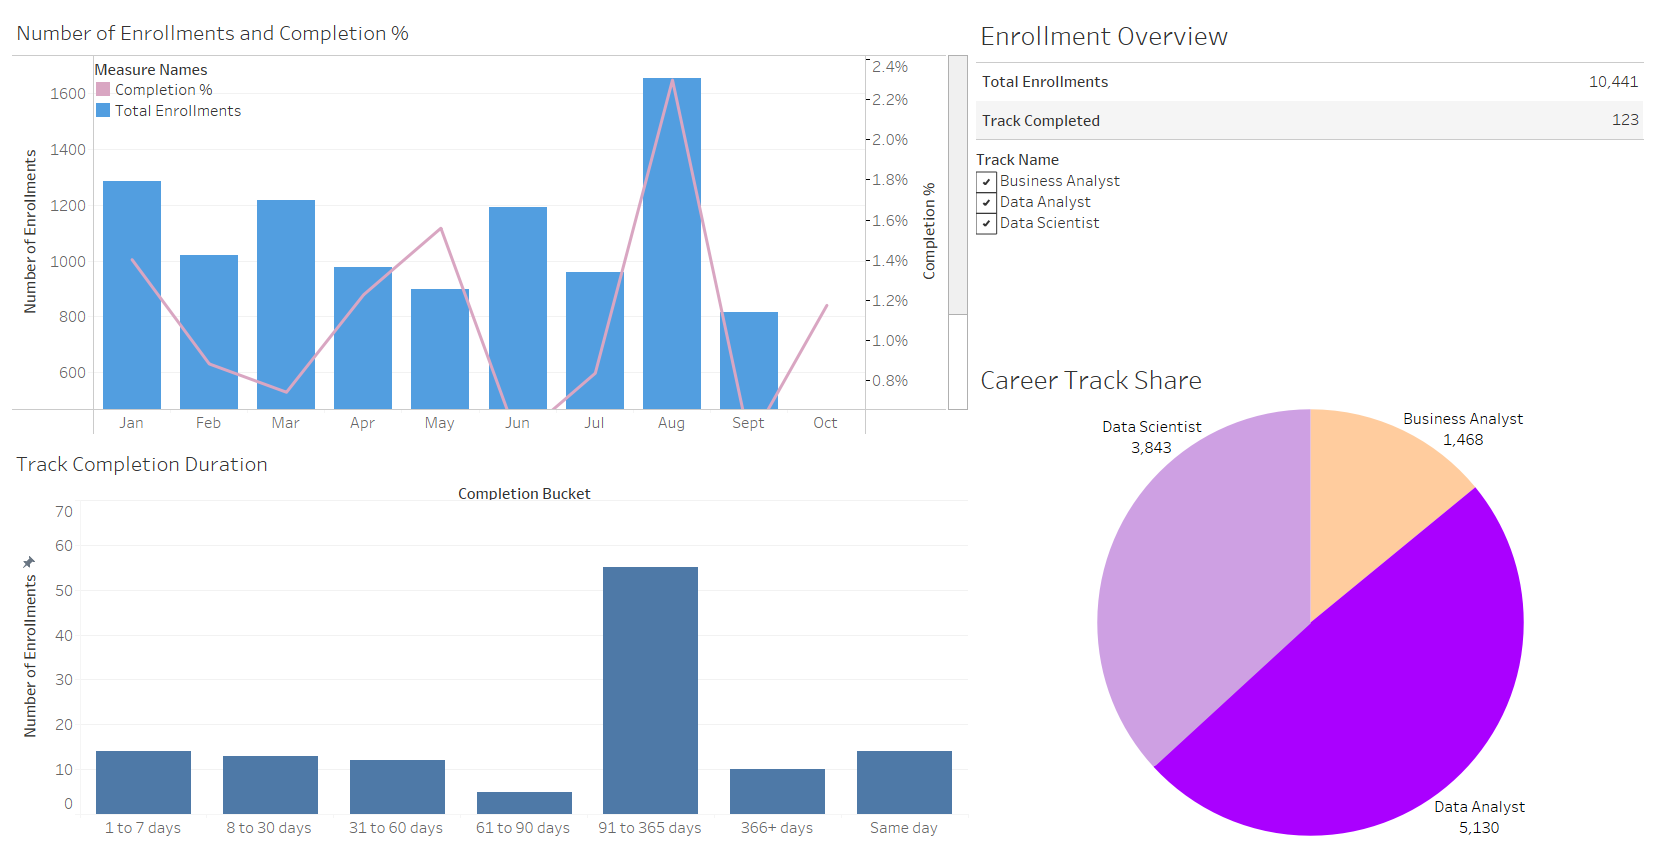

Layout of this report page (visuals, bound fields, positions):
{"tool":"tableau","page":{"name":"Dashboard 1","canvas":[1000,1000],"units":"permille","ordinal":0},"visuals":[{"type":"worksheet","title":"Sheet 1","mark":"Bar","rows":["student_track_id","Calculation_249105413131046913"],"cols":["date_enrolled"],"box":[4.8,9.4,581.8,506.5]},{"type":"worksheet","title":"Sheet 4","mark":"Automatic","box":[586.6,9.4,408.6,159.9]},{"type":"legend","title":"Sheet 1","param":"[federated.0kg2e6g110j3jy13ydgeo0658osm].[:Measure Names]","box":[56.1,67,238.4,75.2]},{"type":"filter","title":"Sheet 1","param":"[federated.0kg2e6g110j3jy13ydgeo0658osm].[none:track_name:nk]","box":[586.6,169.3,408.6,244.3]},{"type":"worksheet","title":"Sheet 3","mark":"Pie","box":[586.6,413.6,408.6,577]},{"type":"worksheet","title":"Sheet 2","mark":"Automatic","rows":["student_track_id"],"cols":["completion_bucket"],"box":[4.8,515.9,581.8,474.7]}]}

Visuals, with their boxes on the dashboard's canvas, which has no fixed pixel size, in thousandths of its width and height (x1, y1, x2, y2). These are canvas units, not pixel positions in the 1657x851 screenshot, which may show the page scaled, cropped or inside an application window:
"Sheet 1" worksheet (Bar marks): [x1=5, y1=9, x2=587, y2=516]
"Sheet 4" worksheet: [x1=587, y1=9, x2=995, y2=169]
"Sheet 1" legend: [x1=56, y1=67, x2=294, y2=142]
"Sheet 1" filter: [x1=587, y1=169, x2=995, y2=414]
"Sheet 3" worksheet (Pie marks): [x1=587, y1=414, x2=995, y2=991]
"Sheet 2" worksheet: [x1=5, y1=516, x2=587, y2=991]
